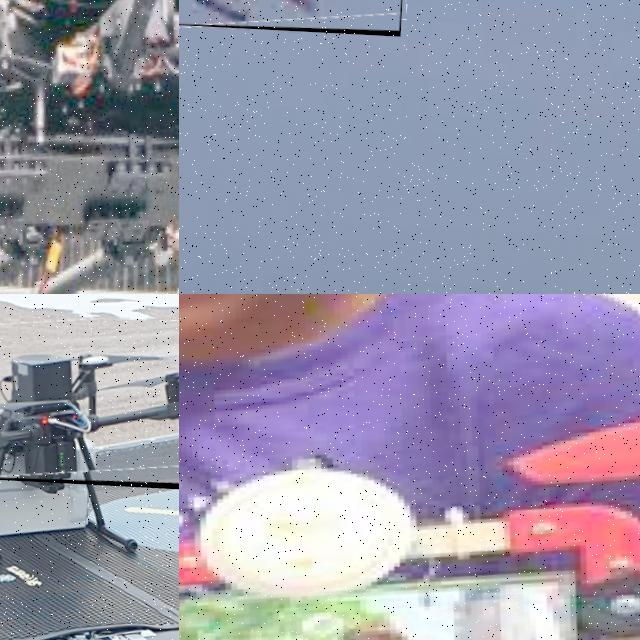drone: (179, 294, 640, 640), (0, 0, 179, 294), (0, 307, 179, 493)
